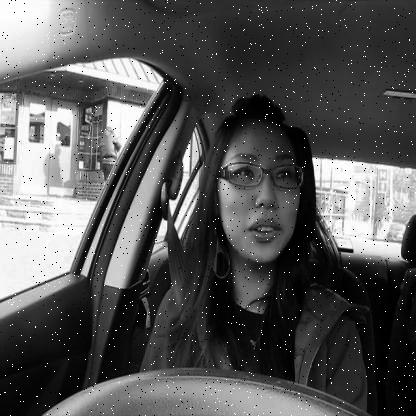seatbelt: (156, 85, 327, 416)
